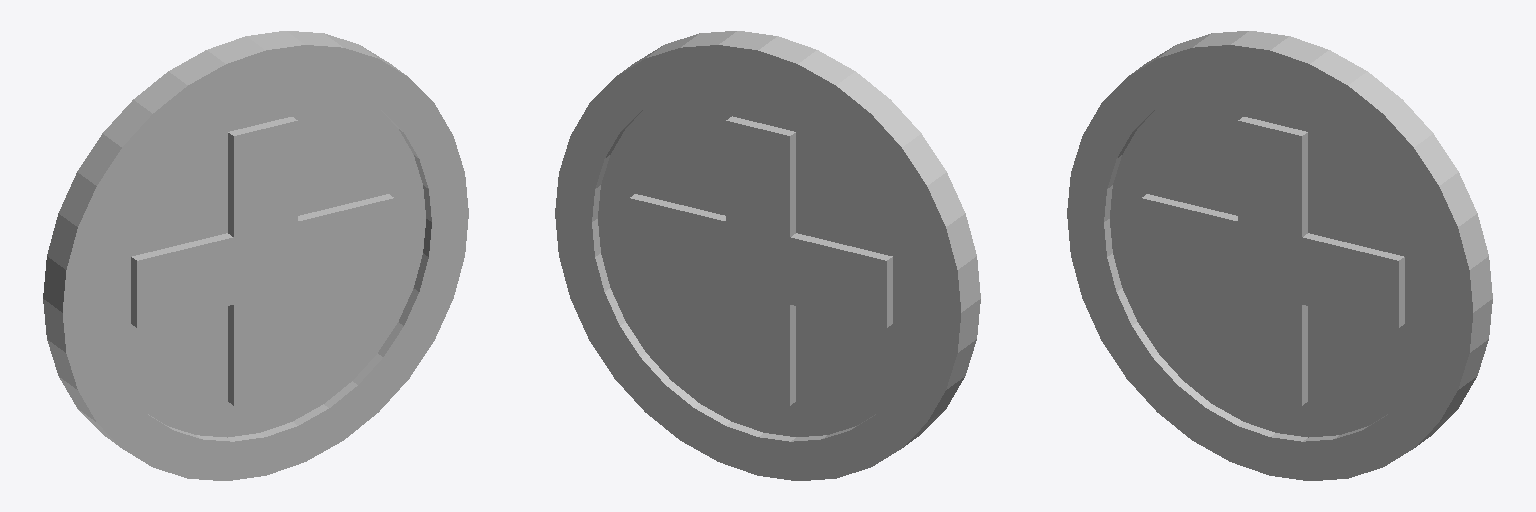
File: health.obj
3 views of the same model, side by side, from view 1: azimuth 30°, elevation 25°; view 2: azimuth 150°, elevation 25°; view 3: azimuth 330°, elevation 25° (orthographic).
Visible parts, largest first — view 1: Cylinder.001; view 2: Cylinder.001; view 3: Cylinder.001.
Boxes of the visible parts, x1=… form: Cylinder.001: x1=43, y1=31, x2=468, y2=480; Cylinder.001: x1=555, y1=31, x2=980, y2=480; Cylinder.001: x1=1067, y1=31, x2=1492, y2=480.
Size of the model in its own units: 2.25 by 2.25 by 0.1875.